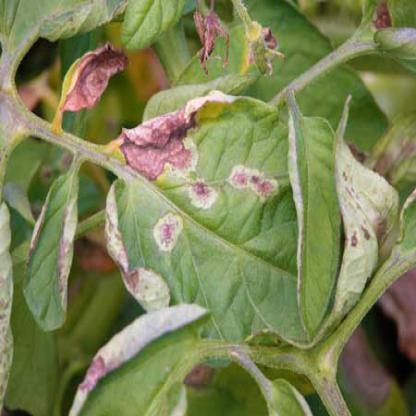Potato leaf late blight: (100, 80, 397, 346), (68, 300, 212, 415), (56, 42, 129, 119), (196, 11, 231, 74)
